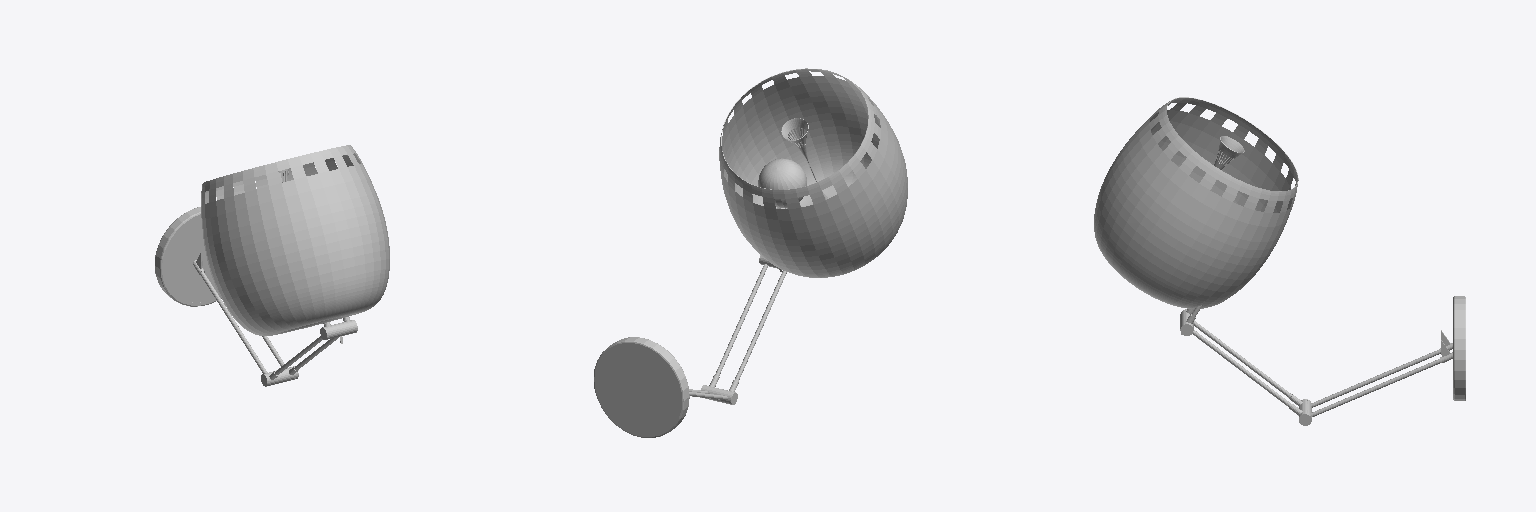
Rendered from lamp-2.obj.
3 renders of one model, left to right at view 1: azimuth 30°, elevation 25°; view 2: azimuth 150°, elevation 25°; view 3: azimuth 270°, elevation 25°, orthographic.
Visible parts, largest first — view 1: Shape27; view 2: Shape27; view 3: Shape27.
Part boxes in pixels (bbox=[...]): Shape27: bbox=[155, 145, 389, 386]; Shape27: bbox=[594, 68, 907, 437]; Shape27: bbox=[1094, 97, 1465, 425].
Size of the model in its own units: 288 by 486 by 567.